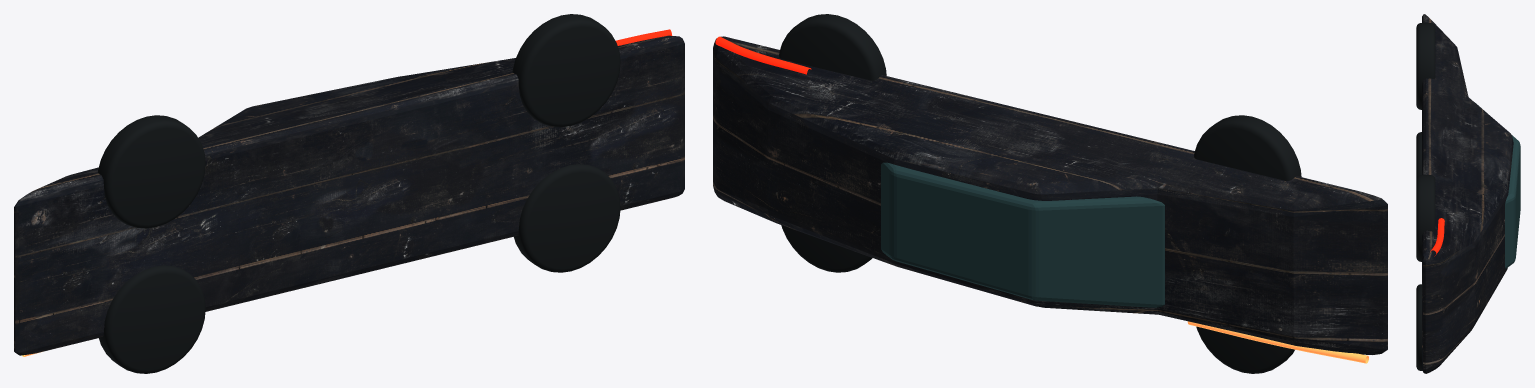
The model's file is car.glb.
3 views of the same model, side by side, from view 1: azimuth 30°, elevation 25°; view 2: azimuth 150°, elevation 25°; view 3: azimuth 270°, elevation 25° (orthographic). The views are drawn at different scales.
Visible parts, largest first — view 1: CAR_WEDGE_BODY, CAR_RECESSED_WHEEL.003, CAR_RECESSED_WHEEL.001, CAR_RECESSED_WHEEL.002, CAR_RECESSED_WHEEL; view 2: CAR_WEDGE_BODY, CAR_GLASS_CANOPY, CAR_RECESSED_WHEEL.003, CAR_RECESSED_WHEEL.001, CAR_RECESSED_WHEEL, CAR_RECESSED_WHEEL.002, CAR_NOSE_LIGHT, CAR_REAR_LIGHT; view 3: CAR_WEDGE_BODY, CAR_GLASS_CANOPY, CAR_RECESSED_WHEEL.003, CAR_RECESSED_WHEEL.001, CAR_RECESSED_WHEEL.002, CAR_RECESSED_WHEEL, CAR_REAR_LIGHT.
Boxes of the visible parts, x1,y1,x2,y2 form: CAR_WEDGE_BODY: (14,35,684,355); CAR_RECESSED_WHEEL.003: (512,14,620,127); CAR_RECESSED_WHEEL.001: (98,115,205,228); CAR_RECESSED_WHEEL.002: (514,164,620,272); CAR_RECESSED_WHEEL: (99,265,205,373); CAR_WEDGE_BODY: (713,36,1387,354); CAR_GLASS_CANOPY: (881,162,1164,307); CAR_RECESSED_WHEEL.003: (779,14,886,80); CAR_RECESSED_WHEEL.001: (1194,115,1301,180); CAR_RECESSED_WHEEL: (1196,326,1294,373); CAR_RECESSED_WHEEL.002: (781,225,872,272); CAR_NOSE_LIGHT: (1187,321,1368,363); CAR_REAR_LIGHT: (715,36,811,74); CAR_WEDGE_BODY: (1422,14,1513,373); CAR_GLASS_CANOPY: (1474,102,1520,268); CAR_RECESSED_WHEEL.003: (1416,175,1435,261); CAR_RECESSED_WHEEL.001: (1416,23,1435,109); CAR_RECESSED_WHEEL.002: (1416,284,1422,370); CAR_RECESSED_WHEEL: (1416,132,1421,178); CAR_REAR_LIGHT: (1430,218,1444,256).
Size of the model in its own units: 10.45 by 3.72 by 1.87.
Materials: 6 (2 with a texture image).
